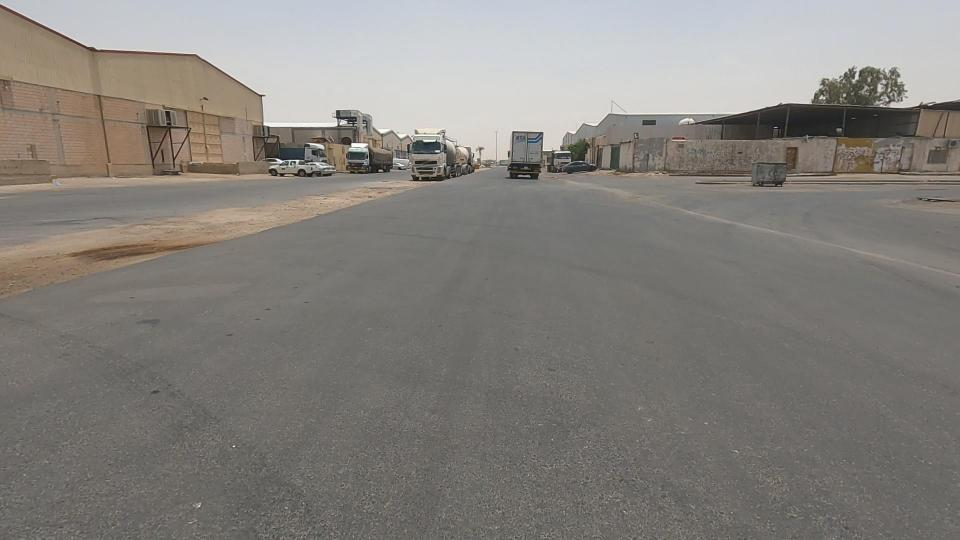CLUTTER_SIDEWALK: (138, 171, 385, 256), (0, 207, 285, 279), (295, 170, 433, 223)
